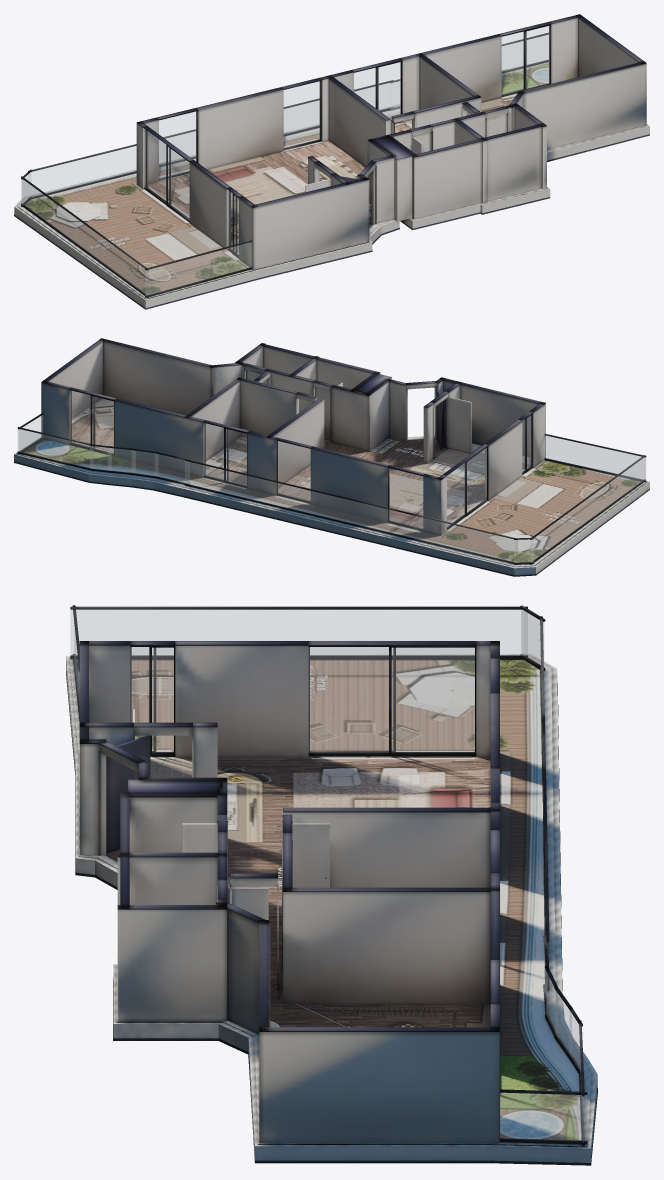
3 renders of one model, top to bottom at view 1: azimuth 30°, elevation 25°; view 2: azimuth 150°, elevation 25°; view 3: azimuth 270°, elevation 25°, orthographic. The views are drawn at different scales.
Parts seen in each view (by area): view 1: plan, railg1_m, railg9_m, railg8_m, glass4_m, glass0_m, glass2_m, glass1_m, glass3_m, railg6_m, glass5_m; view 2: plan, railg1_m, railg9_m, railg8_m, glass4_m, glass3_m, glass0_m, railg6_m, glass1_m, glass2_m, railg2_m, railg4_m (+5 smaller); view 3: plan, glass0_m, railg9_m, railg7_m, glass5_m, railg0_m.
Boxes of the visible parts, box(x1,y1,x2,y2) form: plan: box(14, 14, 649, 309); railg1_m: box(28, 83, 389, 196); railg9_m: box(21, 180, 148, 295); railg8_m: box(145, 242, 251, 295); glass4_m: box(502, 26, 549, 94); glass0_m: box(145, 129, 189, 218); glass2_m: box(284, 81, 319, 147); glass1_m: box(159, 111, 196, 178); glass3_m: box(354, 62, 400, 119); railg6_m: box(502, 35, 548, 71); glass5_m: box(229, 191, 238, 254); plan: box(14, 338, 649, 576); railg1_m: box(185, 461, 517, 562); railg9_m: box(531, 457, 644, 562); railg8_m: box(545, 435, 645, 479); glass4_m: box(70, 391, 113, 452); glass3_m: box(204, 423, 246, 485); glass0_m: box(447, 448, 486, 527); railg6_m: box(18, 429, 93, 468); glass1_m: box(389, 468, 422, 528); glass2_m: box(278, 441, 310, 500); railg2_m: box(155, 453, 189, 483); railg4_m: box(108, 448, 135, 472); plan: box(66, 605, 597, 1165); glass0_m: box(309, 647, 474, 752); railg9_m: box(70, 610, 527, 655); railg7_m: box(500, 1093, 586, 1140); glass5_m: box(130, 647, 173, 752); railg0_m: box(521, 610, 543, 665).
Size of the model in its own units: 21.39 by 2.62 by 9.72.
Materials: 2 (1 with a texture image).
